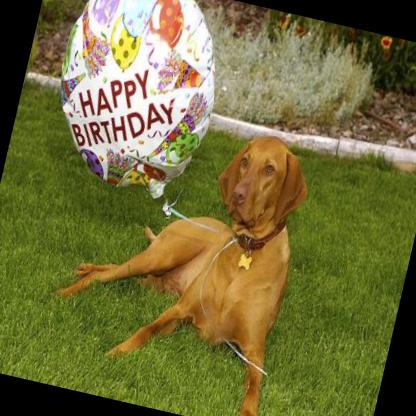vizsla: (33, 92, 320, 416)
